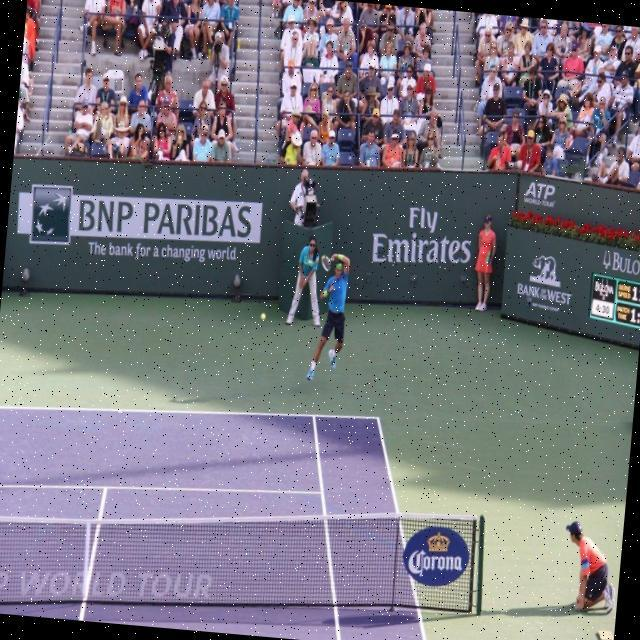Emirates: (370, 231, 472, 272)
